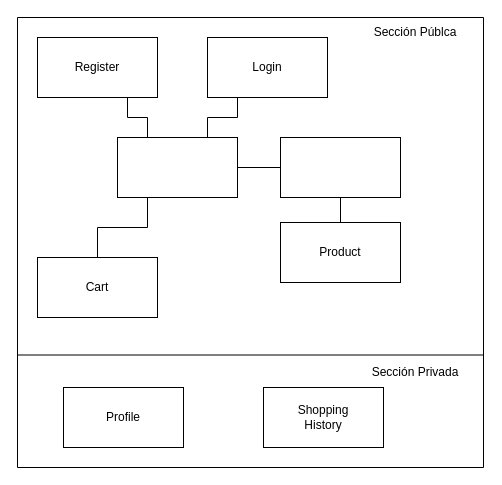
This 502x485 diagram has some shape labels left out. The shapes that lost their labels are listed below. From the top down, each one's box as (x1, y1, x2, y2) in pixels, then its label:
(116, 136, 238, 198): Home Page
(280, 136, 400, 198): Store
